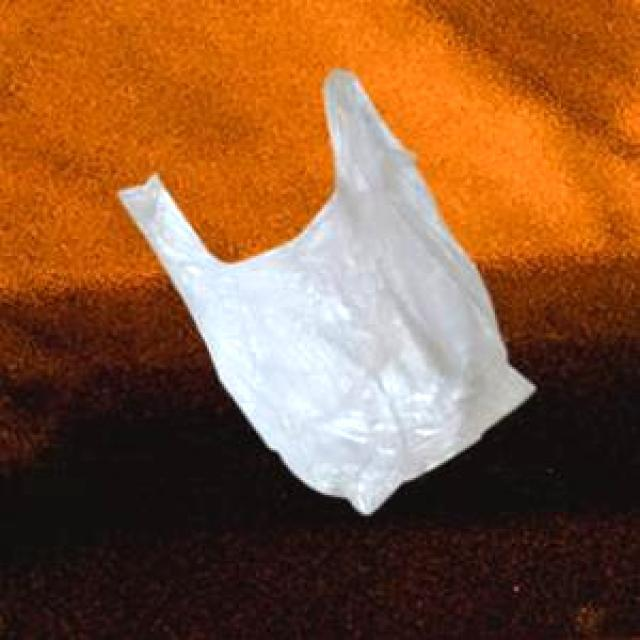Plastic_Bag: (117, 67, 532, 511)
